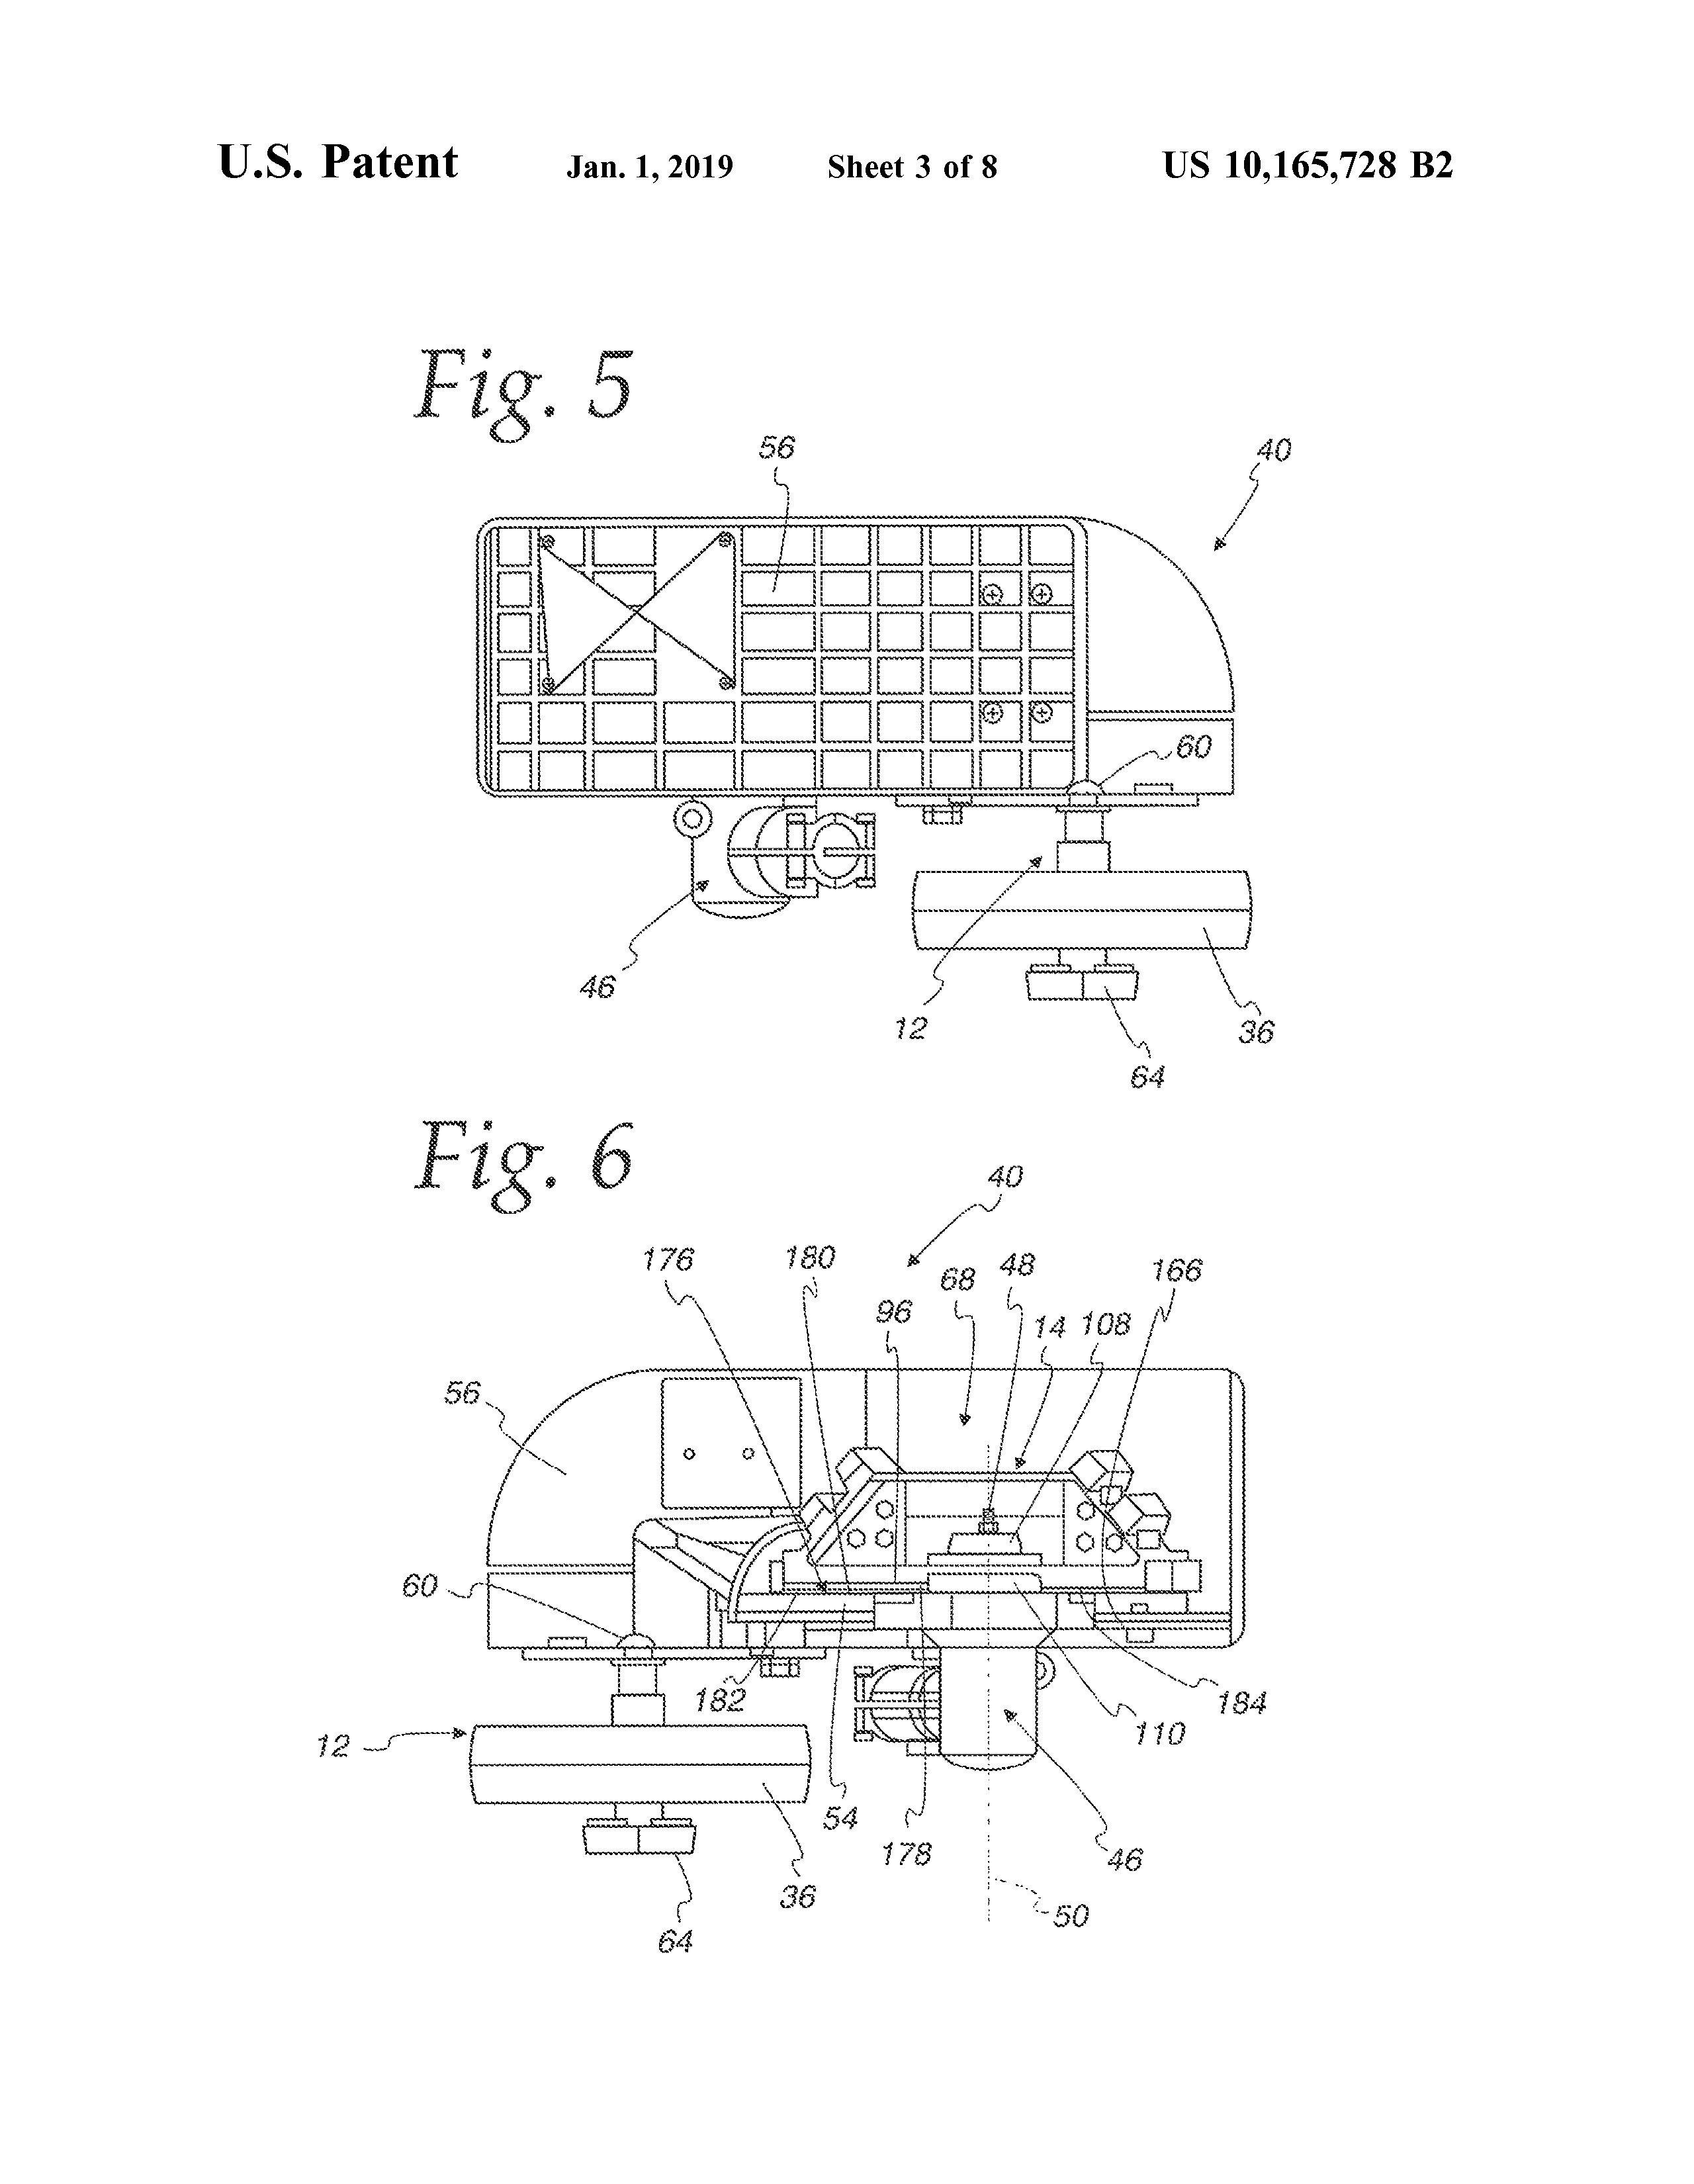patent image: (292, 1085, 1306, 1982), (405, 285, 1334, 1093)
